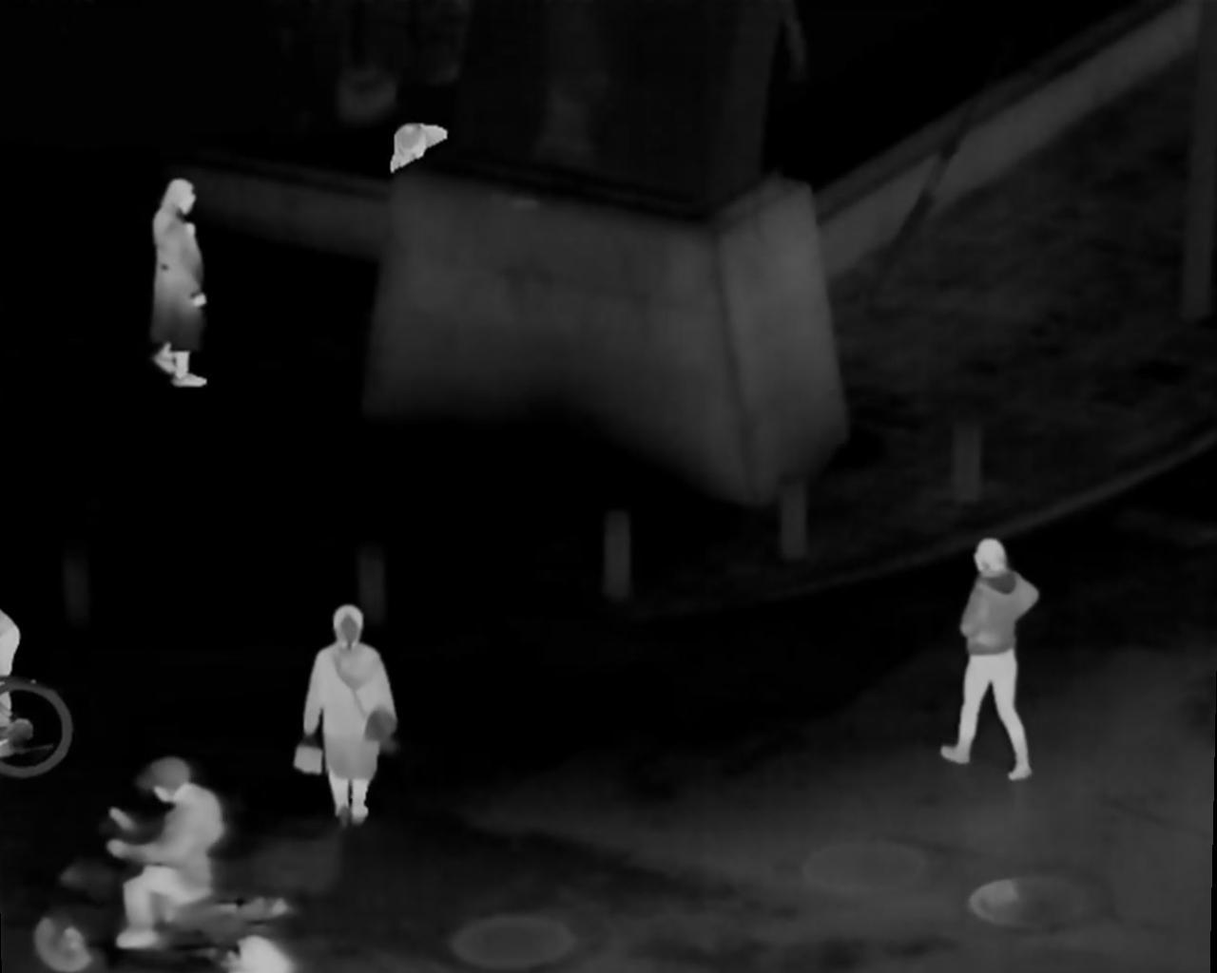person: (950, 528, 1047, 779), (300, 602, 396, 837), (96, 771, 215, 950), (144, 178, 222, 391)
